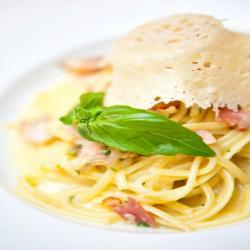carbonara: (24, 87, 250, 233)
